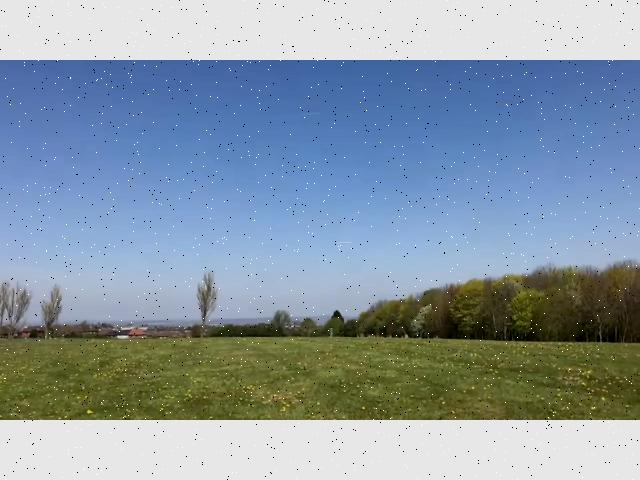Anti-Drone: (336, 241, 352, 245)
